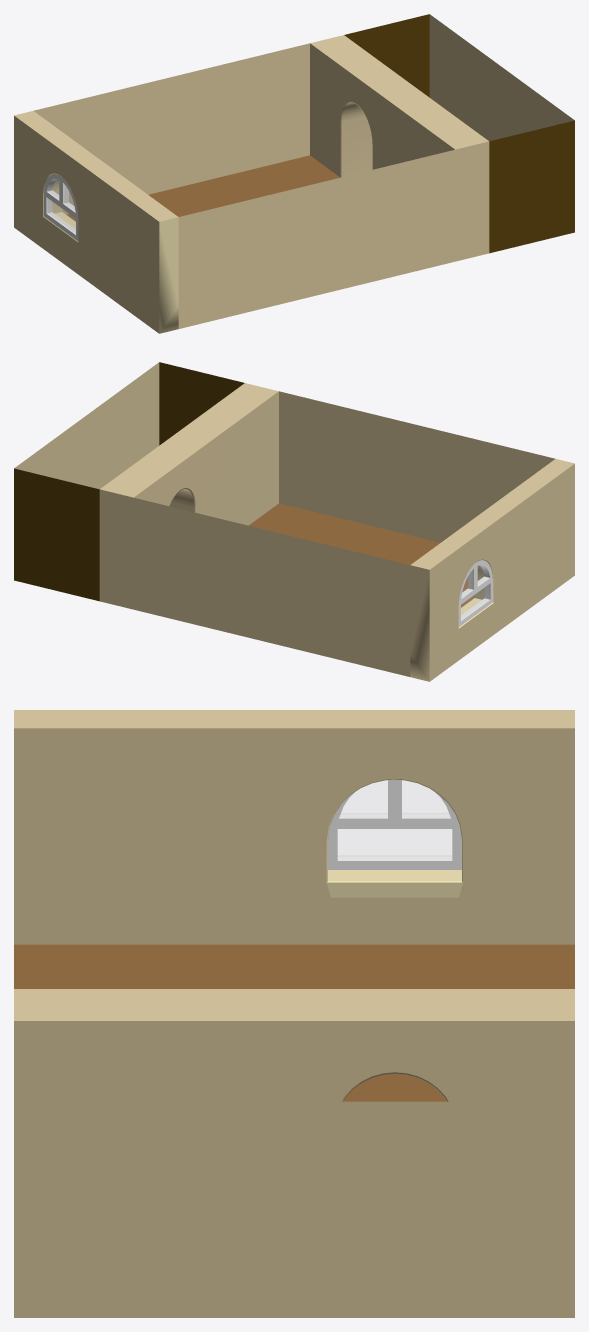
The model's file is Room2.glb.
3 views of the same model, one above another, from view 1: azimuth 30°, elevation 25°; view 2: azimuth 150°, elevation 25°; view 3: azimuth 270°, elevation 25° (orthographic). The views are drawn at different scales.
Visible parts, largest first — view 1: Room; view 2: Room; view 3: Room.
Boxes of the visible parts, bbox=[...] form: Room: bbox=[14, 14, 574, 333]; Room: bbox=[14, 362, 574, 681]; Room: bbox=[14, 710, 574, 1317].
Size of the model in its own units: 11.65 by 3 by 7.05.
Materials: 5 (1 with a texture image).
